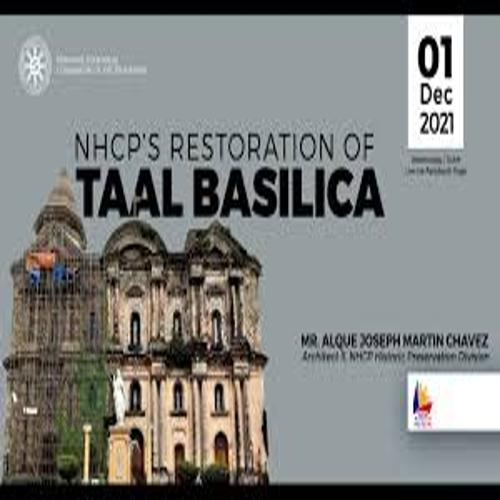Taal Basilica Church: (9, 178, 279, 489)
